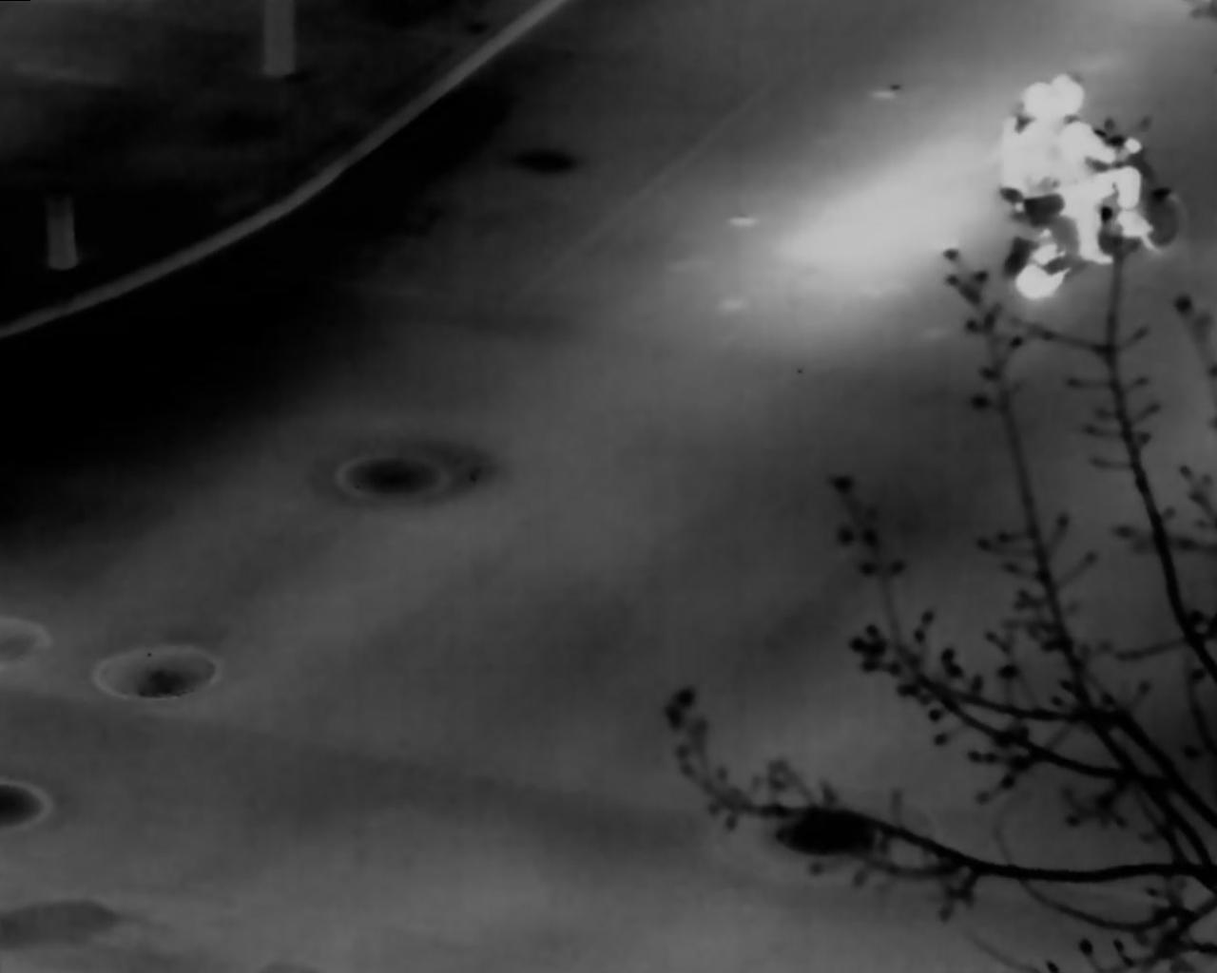person: (1002, 81, 1111, 265), (1052, 72, 1154, 238)
